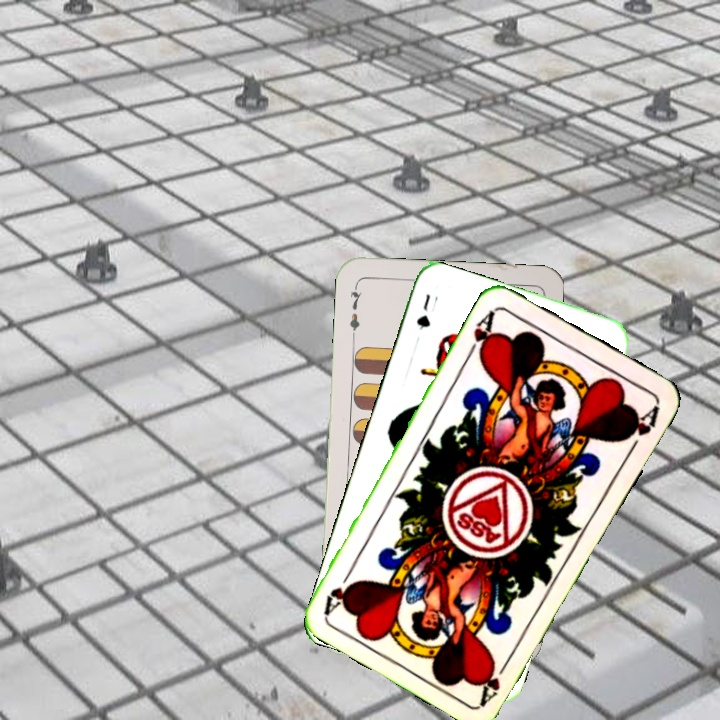E7: (345, 281, 365, 340)
GU: (412, 290, 433, 333)
HA: (476, 652, 515, 706), (463, 306, 499, 361)
